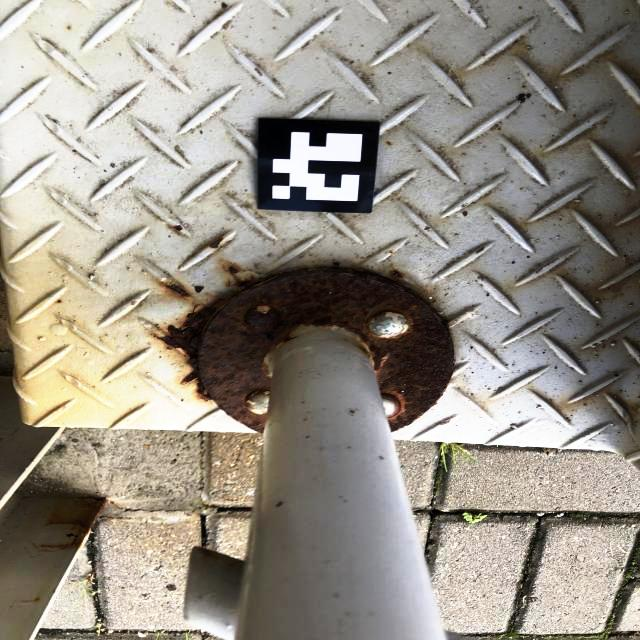Corrosion: (198, 267, 455, 434), (149, 296, 230, 402), (31, 496, 109, 553), (573, 383, 612, 405), (594, 278, 628, 296), (159, 281, 191, 298), (234, 276, 255, 290), (198, 547, 220, 559), (209, 237, 225, 250), (228, 265, 242, 275), (390, 269, 404, 279), (629, 403, 640, 415), (172, 224, 184, 232), (27, 598, 40, 602), (225, 282, 231, 288), (386, 141, 392, 146), (53, 587, 57, 594), (131, 301, 137, 305), (57, 300, 62, 303)
